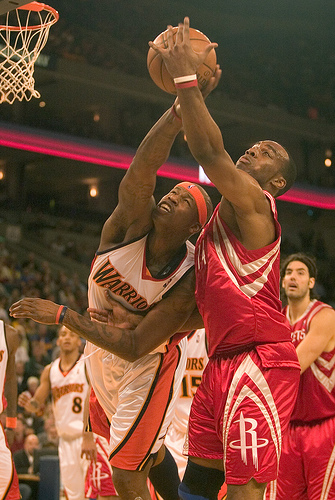basketball: (146, 27, 216, 94)
